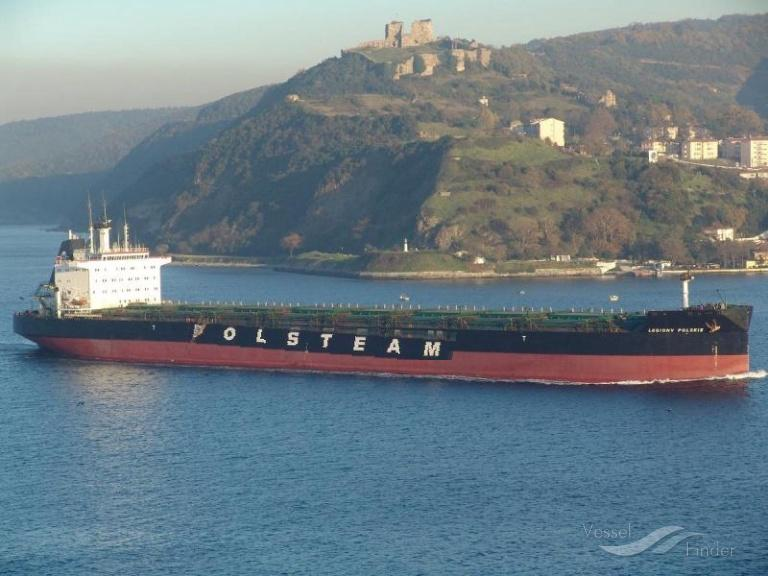OCR: (188, 320, 457, 360)
